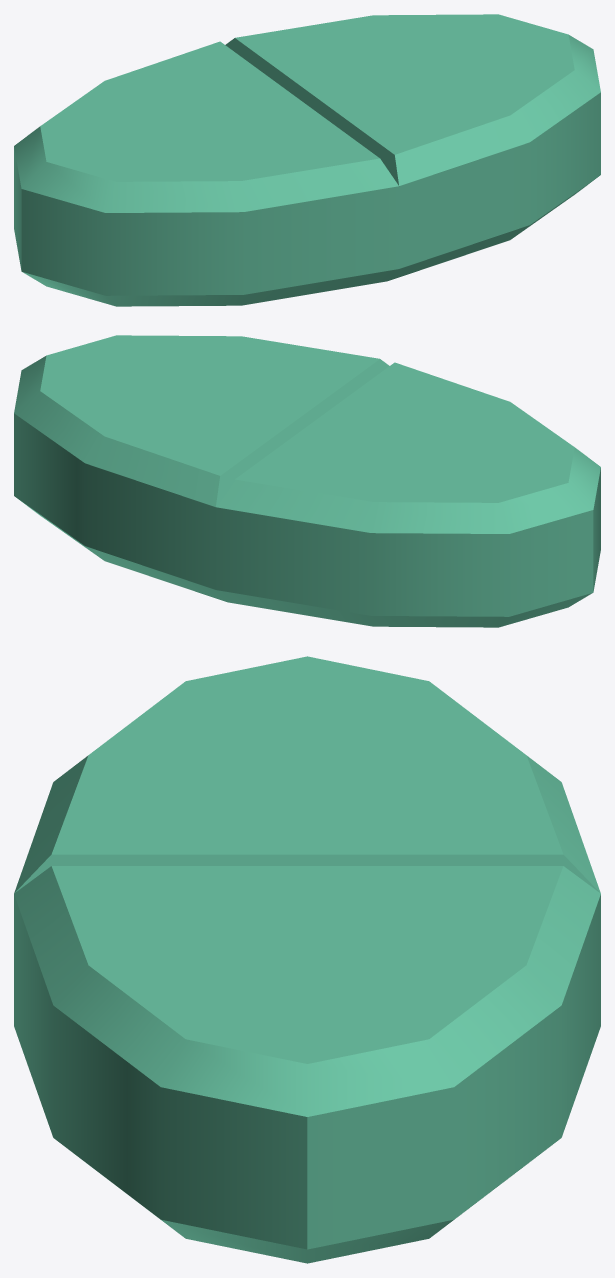
Rendered from estradiol.glb.
3 views of the same model, one above another, from view 1: azimuth 30°, elevation 25°; view 2: azimuth 150°, elevation 25°; view 3: azimuth 270°, elevation 25° (orthographic). The views are drawn at different scales.
Parts seen in each view (by area): view 1: Circle; view 2: Circle; view 3: Circle.
Part boxes in pixels (x1,y1,x2,y2): Circle: (14,14,600,306); Circle: (14,335,600,627); Circle: (14,656,600,1263).
Bounding box in the file's own units: 2.52 × 0.525 × 1.4.
